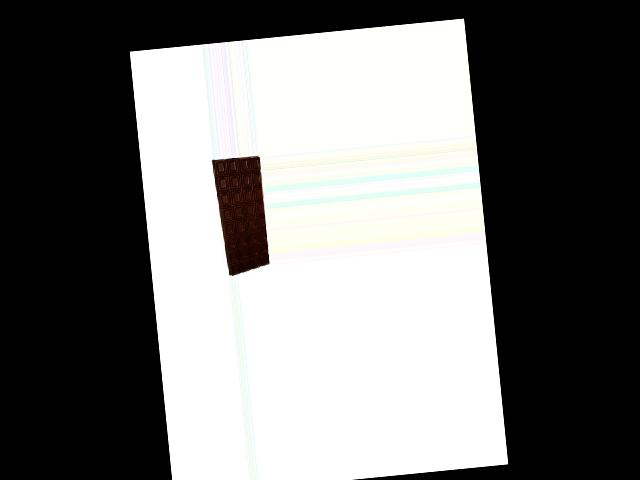chocolate: (213, 154, 271, 277)
